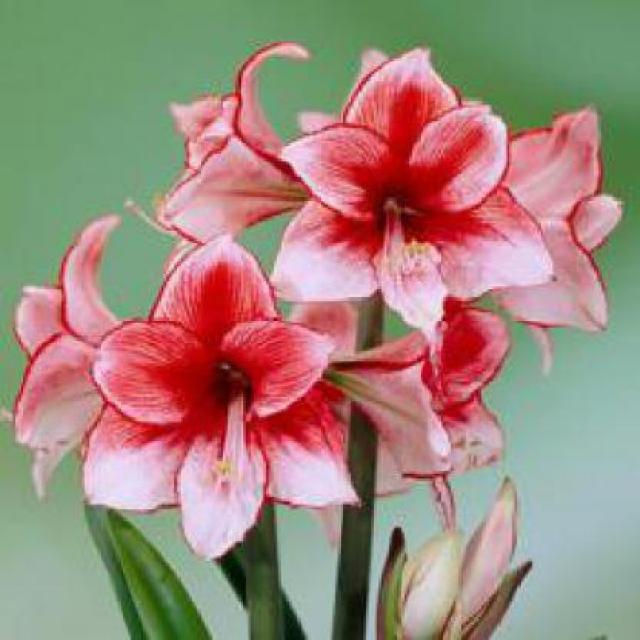Flower: (79, 236, 361, 562), (269, 46, 553, 351), (125, 44, 313, 241), (10, 215, 136, 499), (351, 307, 509, 527)
